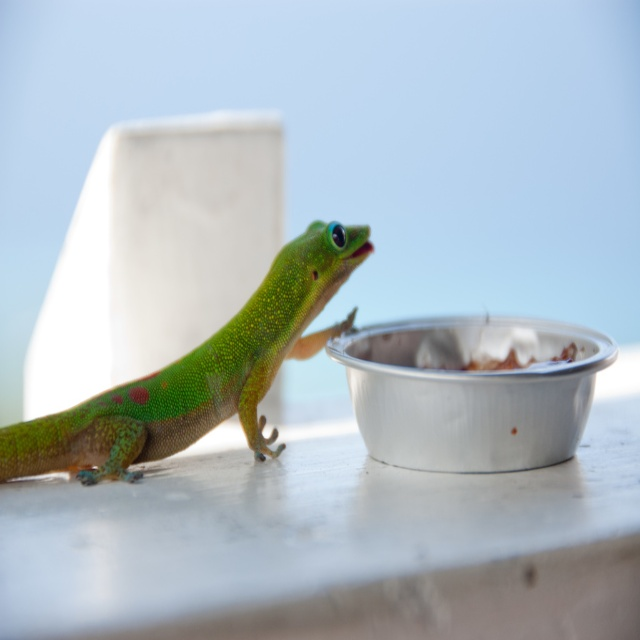Lizard: (12, 195, 392, 510)
